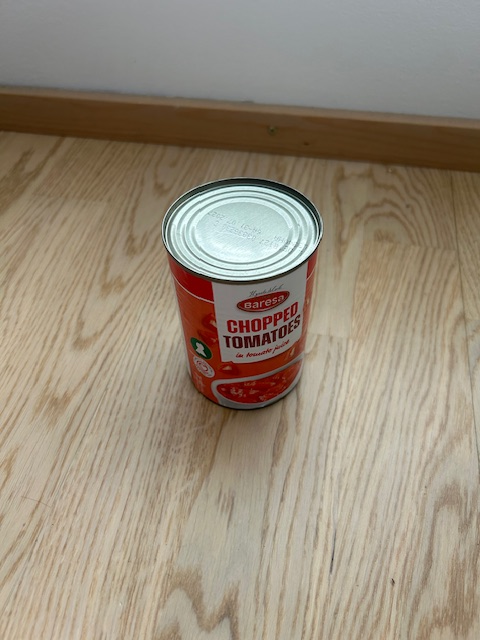Konservburk: (161, 177, 325, 410)
